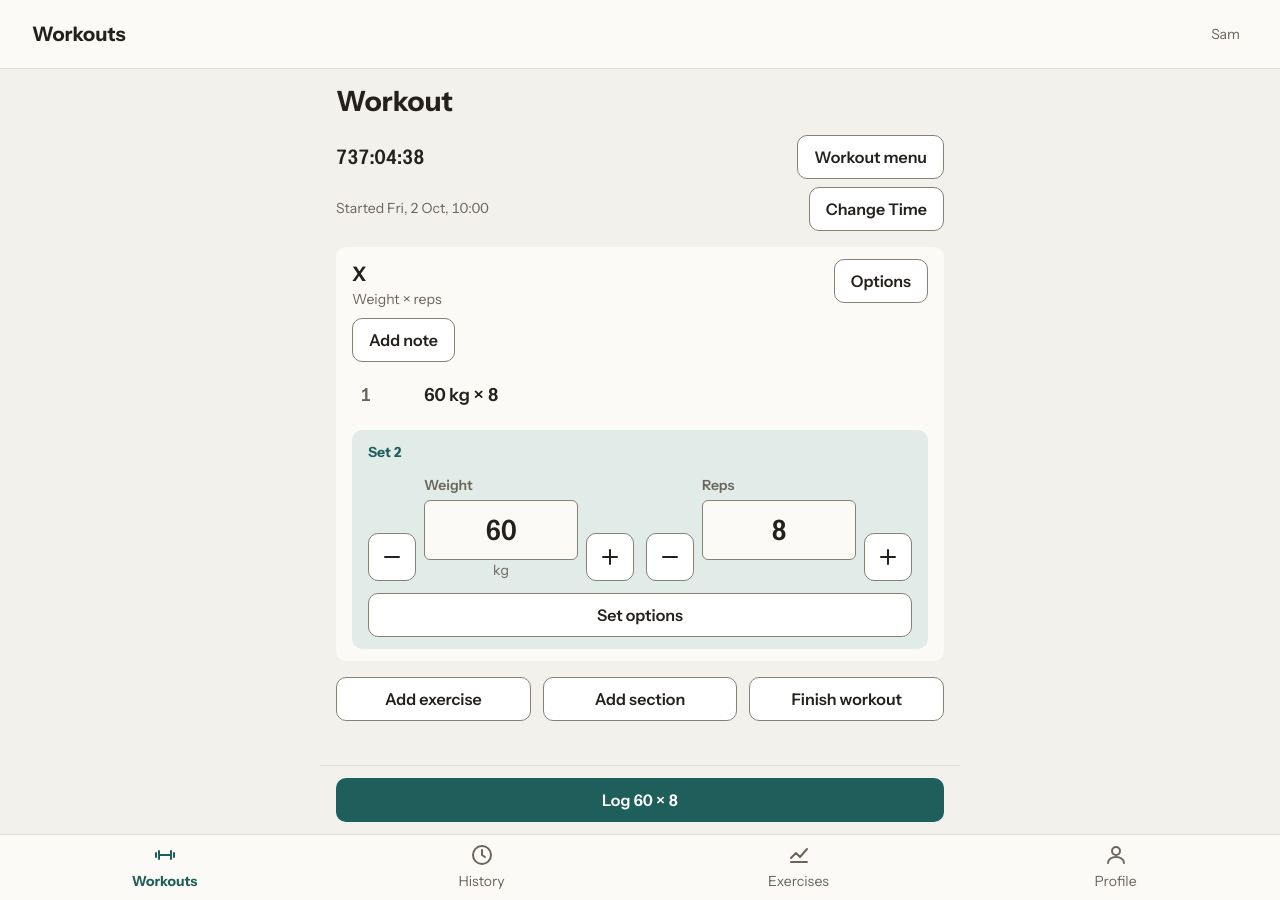
Test: AC29 — discard and the gone path › confirming sends DELETE and lands on the Start screen
Expected: the heading "Workout" is shown, [336,84,453,118]
What coordinates should you click on to do the following:
click the button "Workout menu"
I would click on:
 (871, 157)
Its box is [797,135,944,179].
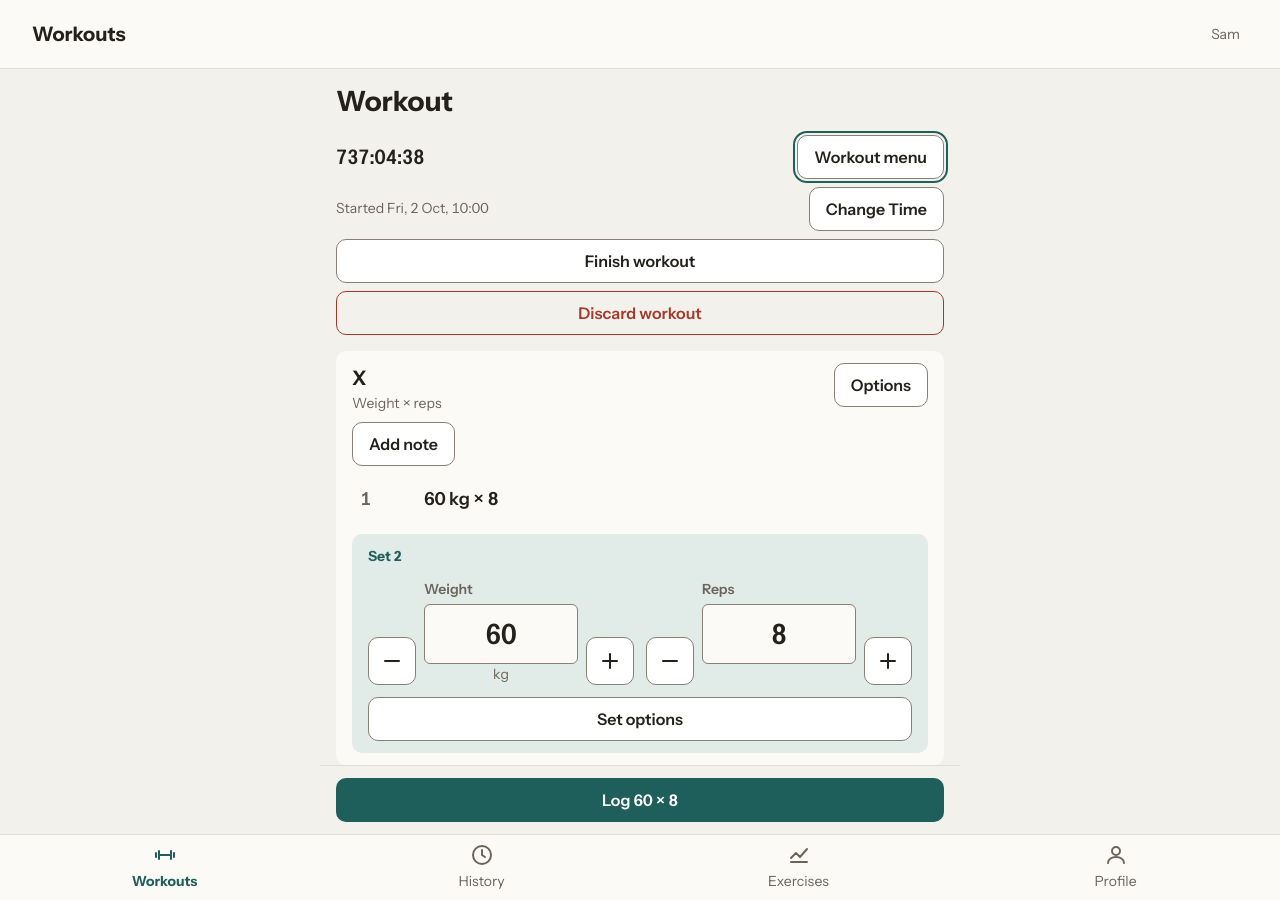
What coordinates should you click on to do the following:
click the button "Discard workout"
I would click on:
 (640, 313)
Its box is [336,291,944,335].
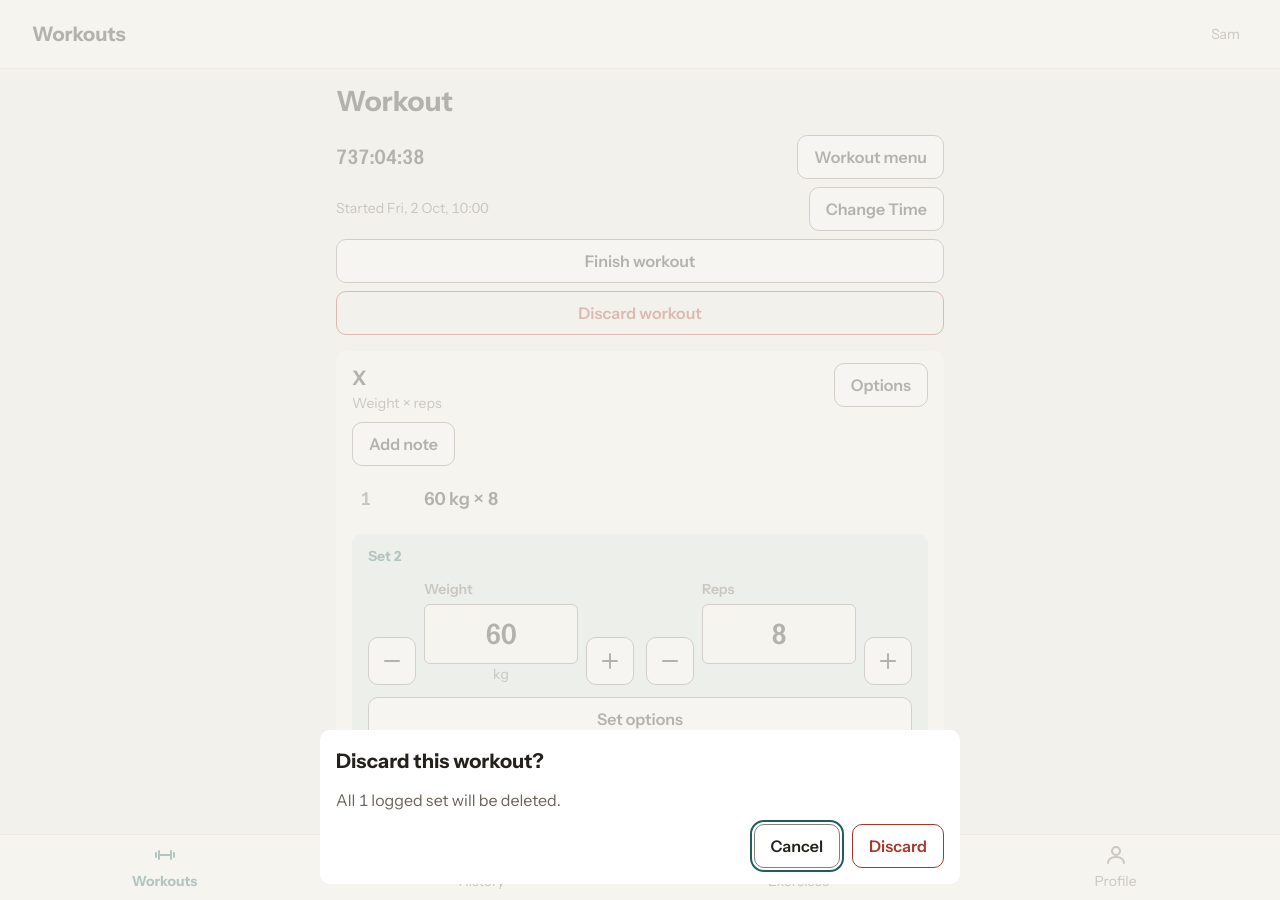
What coordinates should you click on to do the following:
click the button "Discard"
I would click on:
 (898, 846)
Its box is [852,824,944,868].
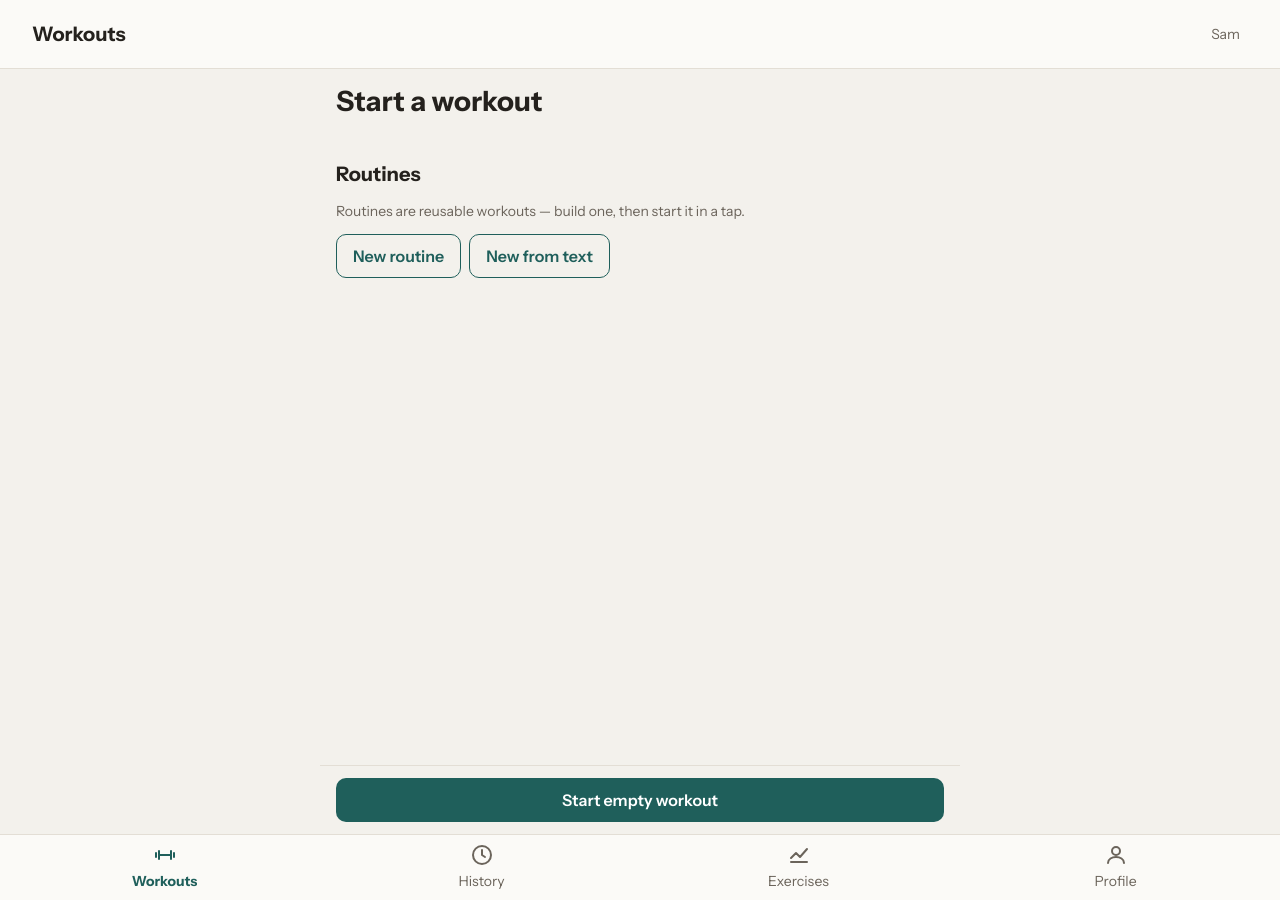
Now the heading "Start a workout" is shown, box [336,84,542,118]
